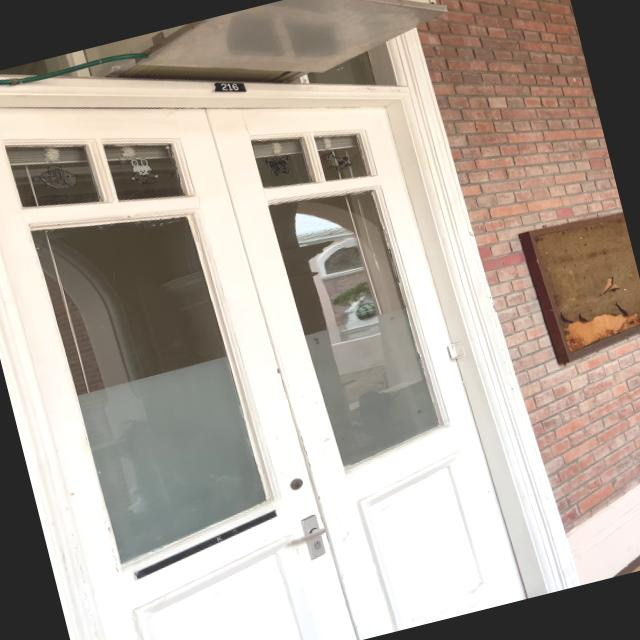room216: (202, 71, 252, 101)
